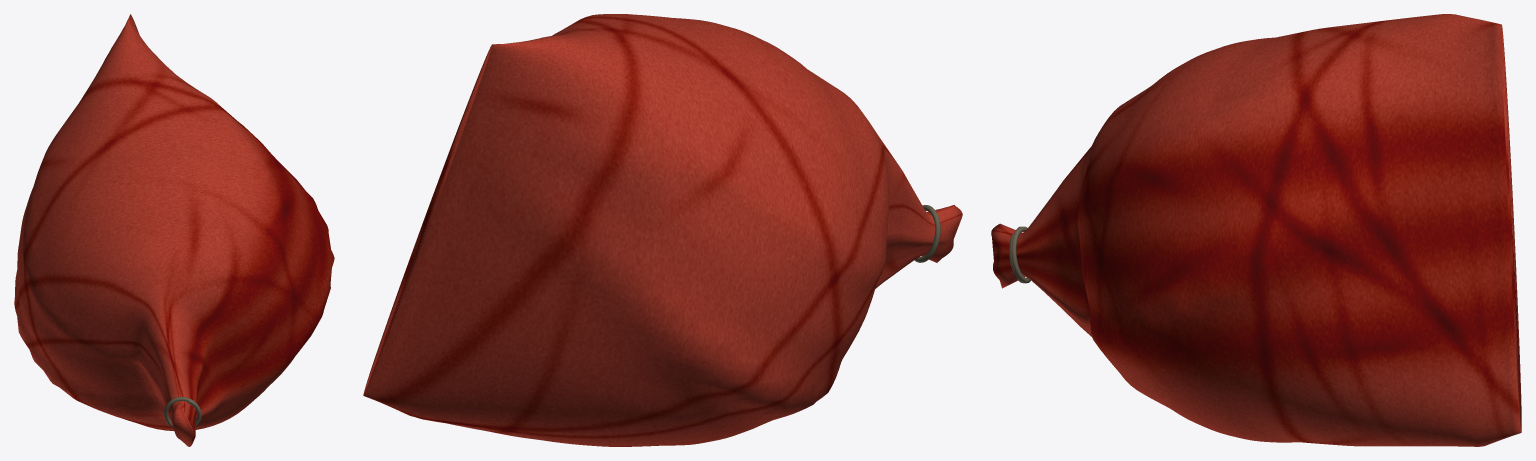
The model's file is peach_00_011.glb.
3 views of the same model, side by side, from view 1: azimuth 30°, elevation 25°; view 2: azimuth 150°, elevation 25°; view 3: azimuth 270°, elevation 25° (orthographic). The views are drawn at different scales.
Visible parts, largest first — view 1: export_Tree00/shoot2_2_1/bag, export_Tree00/shoot2_2_1/bag/tie; view 2: export_Tree00/shoot2_2_1/bag; view 3: export_Tree00/shoot2_2_1/bag.
Boxes of the visible parts, left/top/right/bottom form: export_Tree00/shoot2_2_1/bag: left=14, top=14, right=334, bottom=446; export_Tree00/shoot2_2_1/bag/tie: left=164, top=397, right=201, bottom=428; export_Tree00/shoot2_2_1/bag: left=363, top=14, right=962, bottom=446; export_Tree00/shoot2_2_1/bag: left=991, top=14, right=1521, bottom=446.
Size of the model in its own units: 0.0909 by 0.1038 by 0.1167.
Materials: 4 (1 with a texture image).
